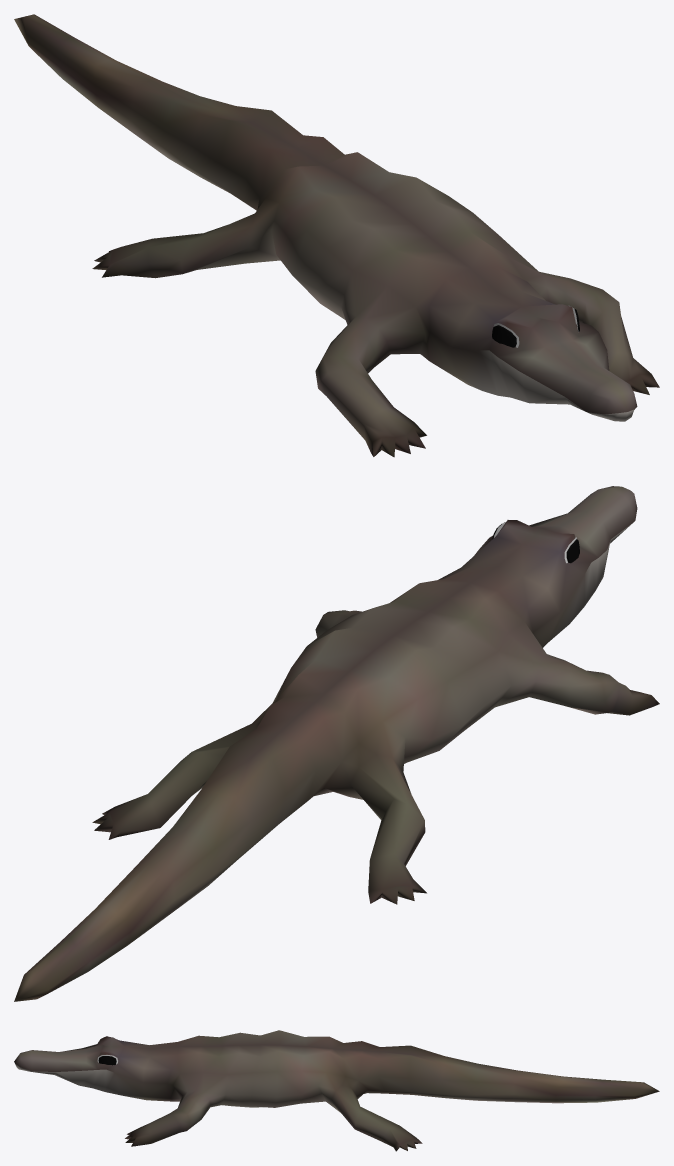
File: animals-reptiles-crocodile_v1.glb
3 views of the same model, one above another, from view 1: azimuth 30°, elevation 25°; view 2: azimuth 150°, elevation 25°; view 3: azimuth 270°, elevation 25° (orthographic). The views are drawn at different scales.
Parts seen in each view (by area): view 1: Crocodile.001; view 2: Crocodile.001; view 3: Crocodile.001.
Boxes of the visible parts, <box> form: Crocodile.001: <box>14,14,659,457</box>; Crocodile.001: <box>14,486,659,1001</box>; Crocodile.001: <box>14,1030,659,1151</box>.
Bounding box in the file's own units: 1.44 × 0.5545 × 4.68.
